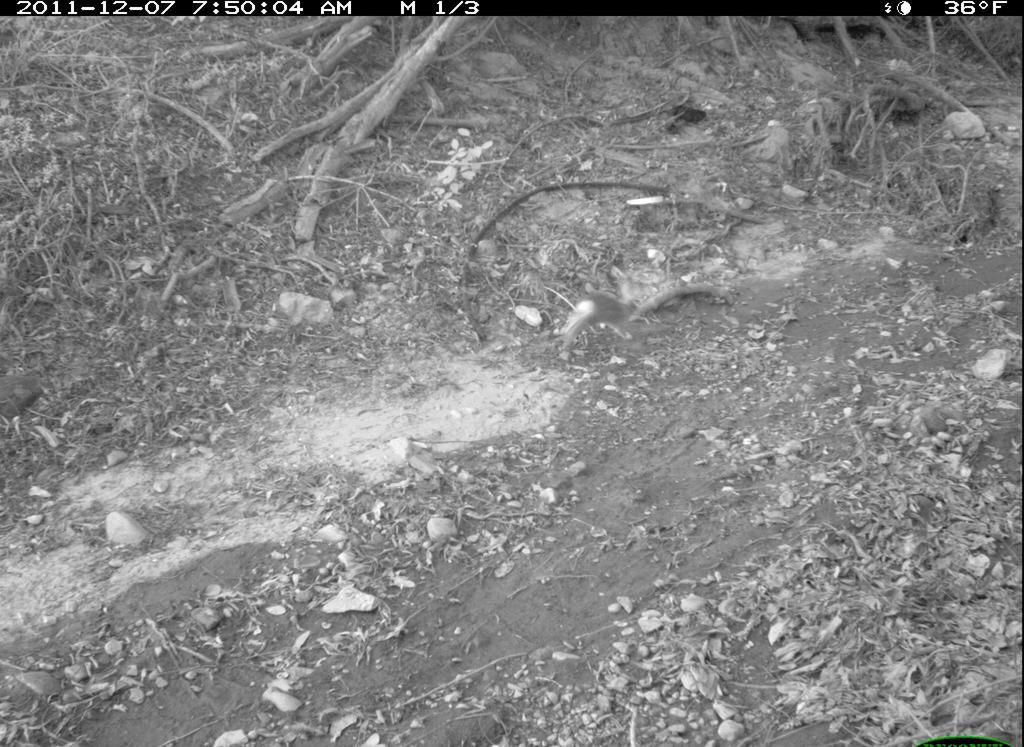rabbit: (546, 263, 657, 354)
